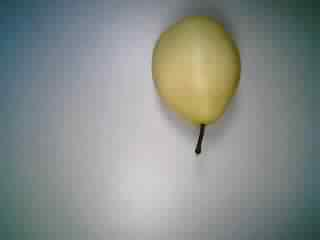pear: (142, 10, 247, 161)
